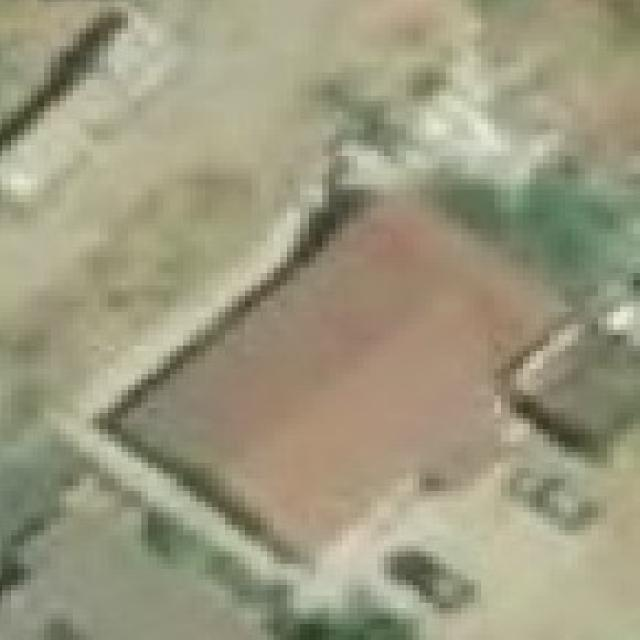Batiment: (127, 209, 543, 549), (3, 10, 165, 220)
